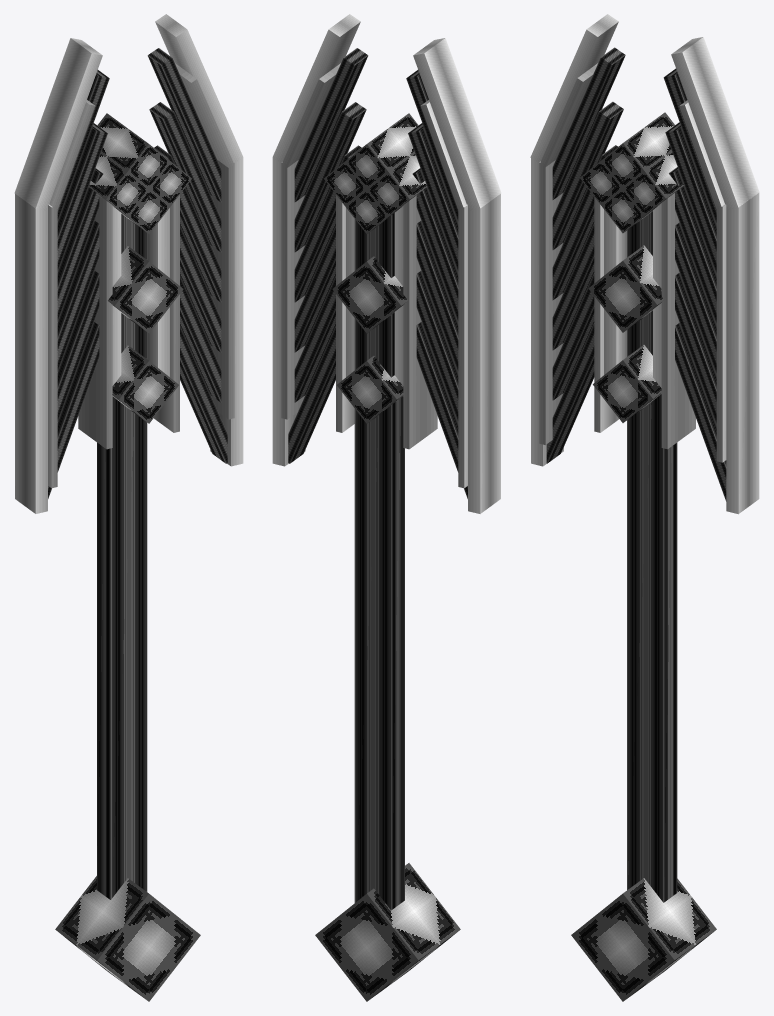
File: iron_shovel.gltf
3 renders of one model, left to right at view 1: azimuth 30°, elevation 25°; view 2: azimuth 150°, elevation 25°; view 3: azimuth 330°, elevation 25°, orthographic.
Parts seen in each view (by area): view 1: cube (×32); view 2: cube (×32); view 3: cube (×32).
Part boxes in pixels (x1=…): cube (×32): x1=14, y1=14, x2=243, y2=1001; cube (×32): x1=272, y1=14, x2=501, y2=1001; cube (×32): x1=530, y1=14, x2=759, y2=1001.
Bounding box in the file's own units: 0.5323 × 2.33 × 0.1875.
Materials: 8 (1 with a texture image).
